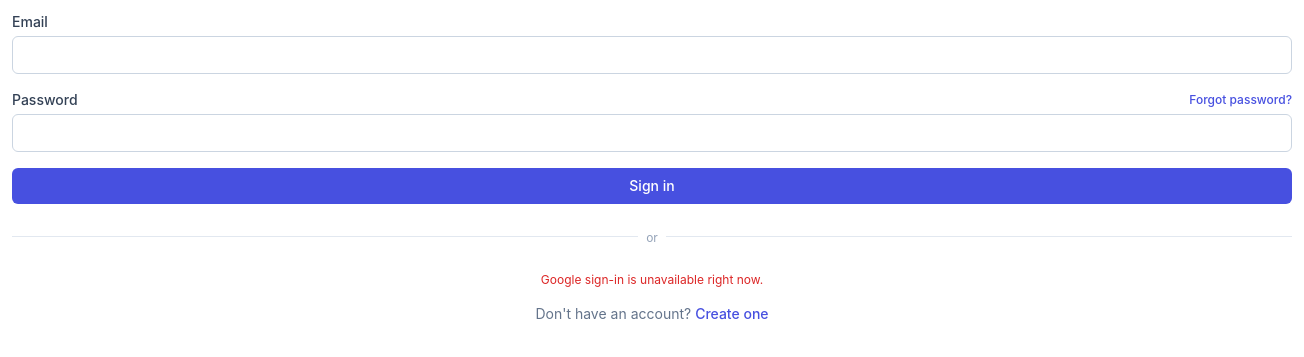
Scenario: LoginForm › rejects a malformed email
Type "not-an-email" into the field labelled "Email" at [652, 55], box [12, 36, 1292, 74]
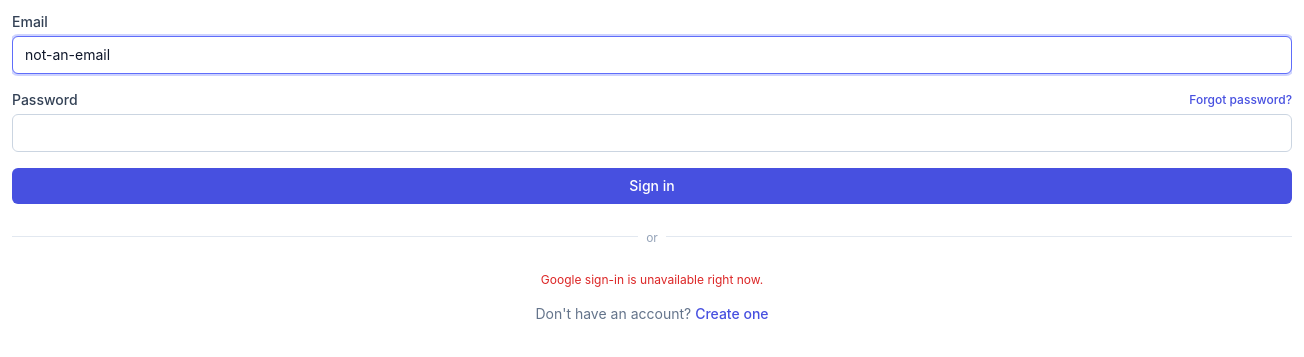
Press Tab
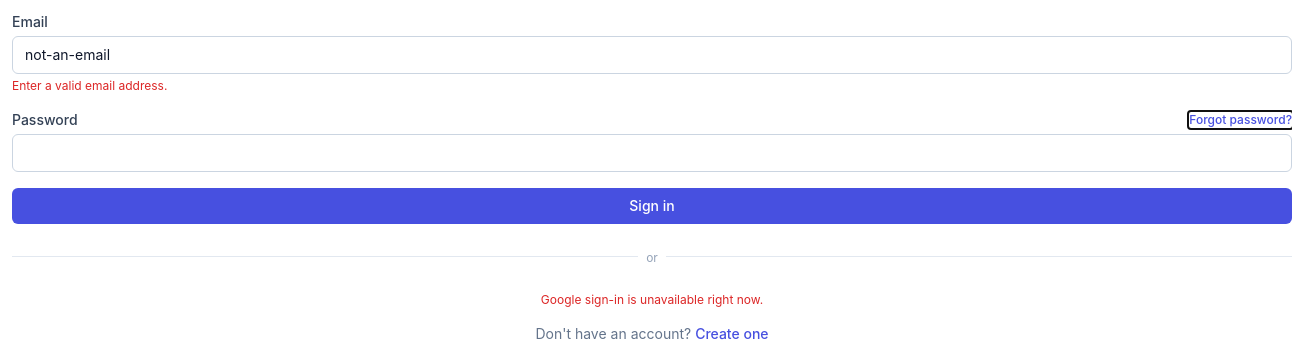
Expected: the text "Enter a valid email address." is shown, [12, 78, 167, 93]
